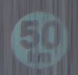Speed limit: (6, 4, 68, 68)
